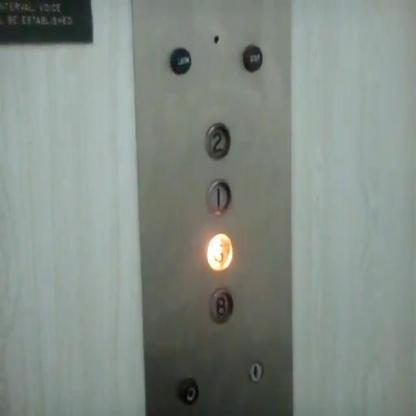1: (204, 177, 233, 217)
2: (203, 120, 232, 160)
B: (206, 285, 235, 326)
G: (204, 232, 233, 272)
text_blur: (168, 44, 192, 76), (240, 41, 264, 72)
